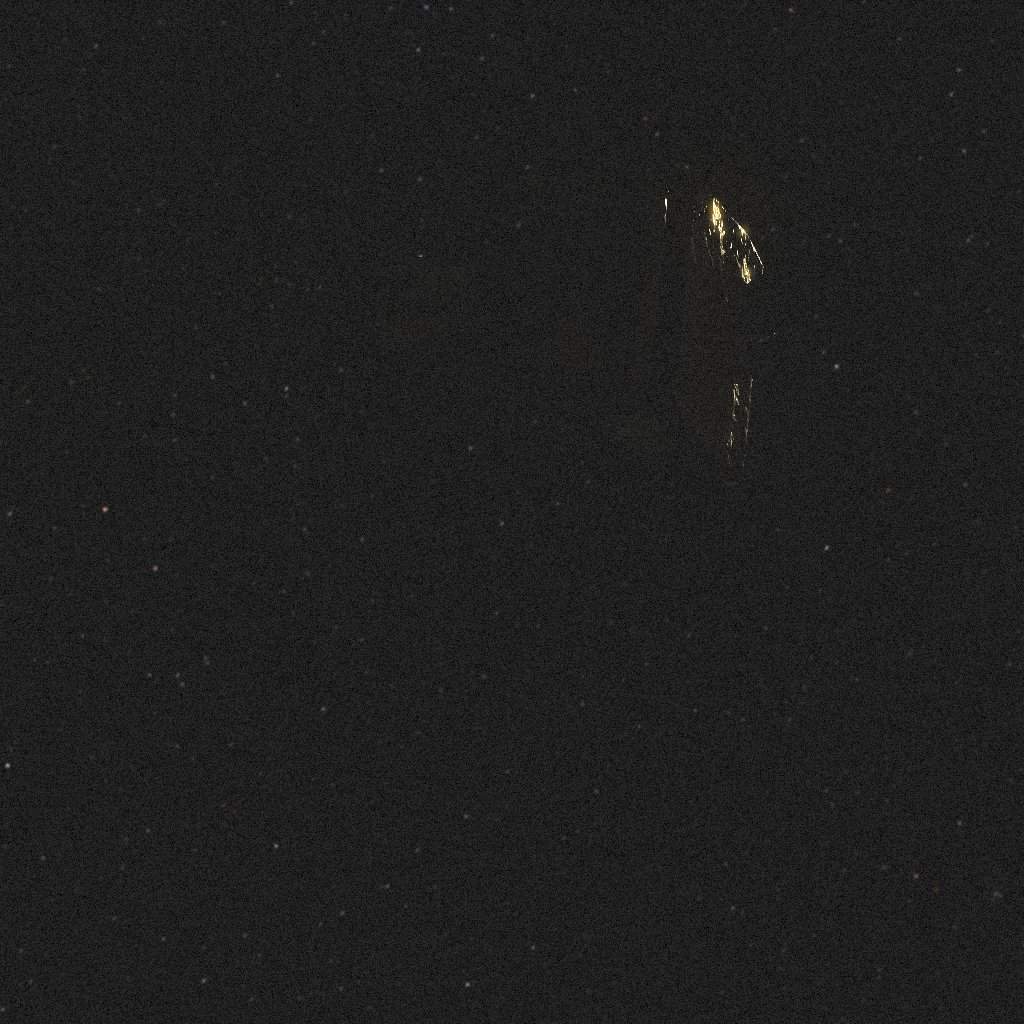soho: (383, 186, 769, 486)
